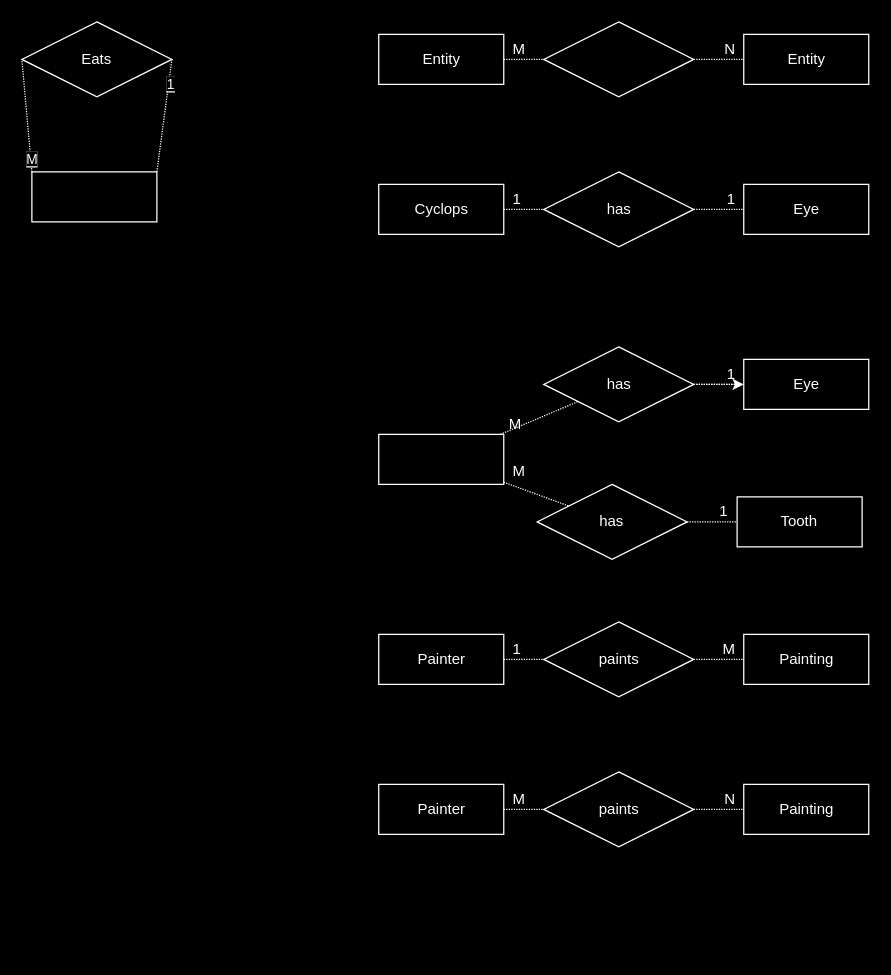
Image size: 891x975. Some labels were removed from this diagram. Here are the shapes that lost their labels. From the top down, the centre of each, then its label:
At (x=618, y=59): "Relationship".
At (x=94, y=196): "Dog".
At (x=441, y=458): "Graeae".
